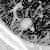node 1: (19, 16, 35, 34)
